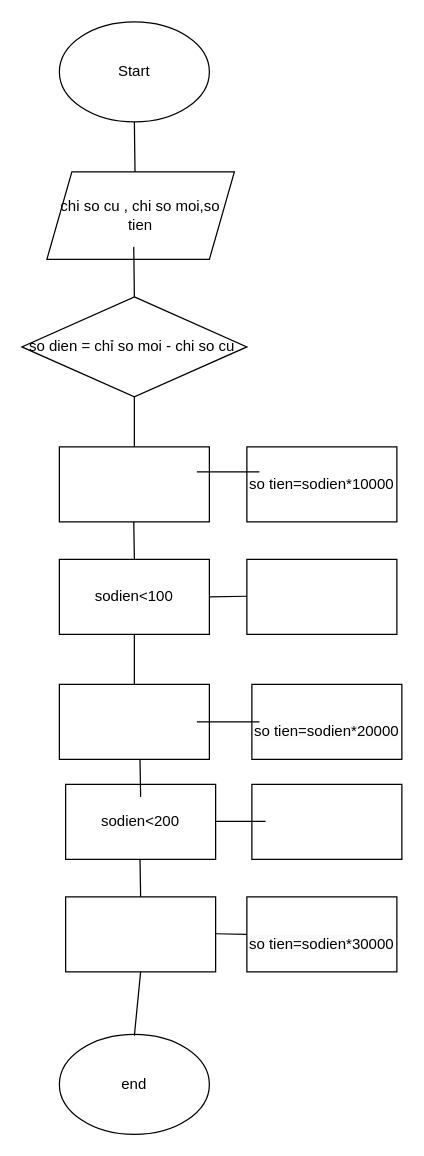
The diagram is 424 pixels wide and 1156 high, and some of its shapes have lost their labels. Each missing label, with the centre of its shape:
"0<=sodien<50" goes at point 133,484.
"so tien=sodien*15000" goes at point 321,596.
"so tien=sodien*25000" goes at point 326,821.
"sodien<150" goes at point 133,721.
"sodien>200" goes at point 140,934.
